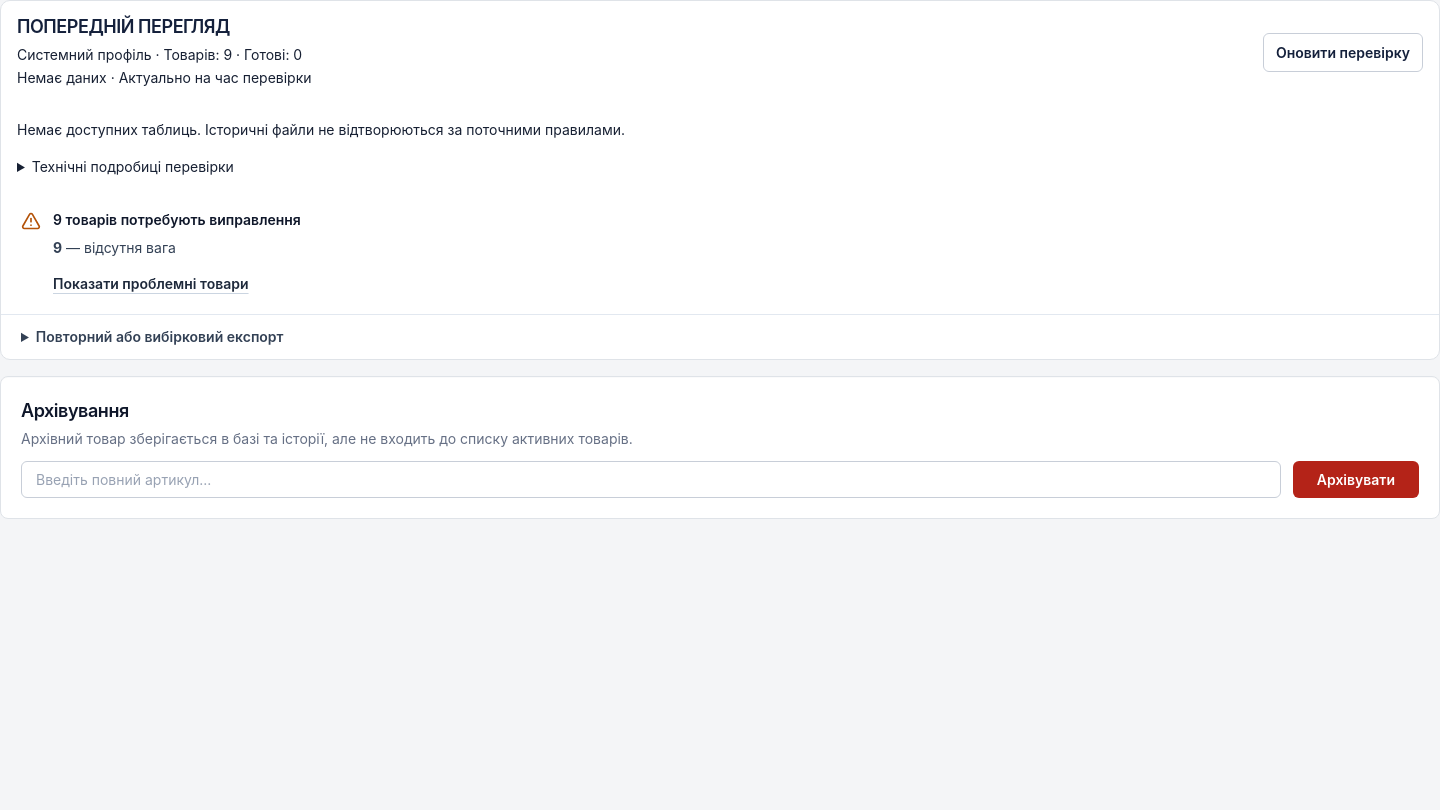
Test: truncates a long problem list and reveals all rows only after request
The width and height of the screenshot is (1440, 810).
Click the button "Показати проблемні товари" at (151, 284), box [53, 274, 248, 294]
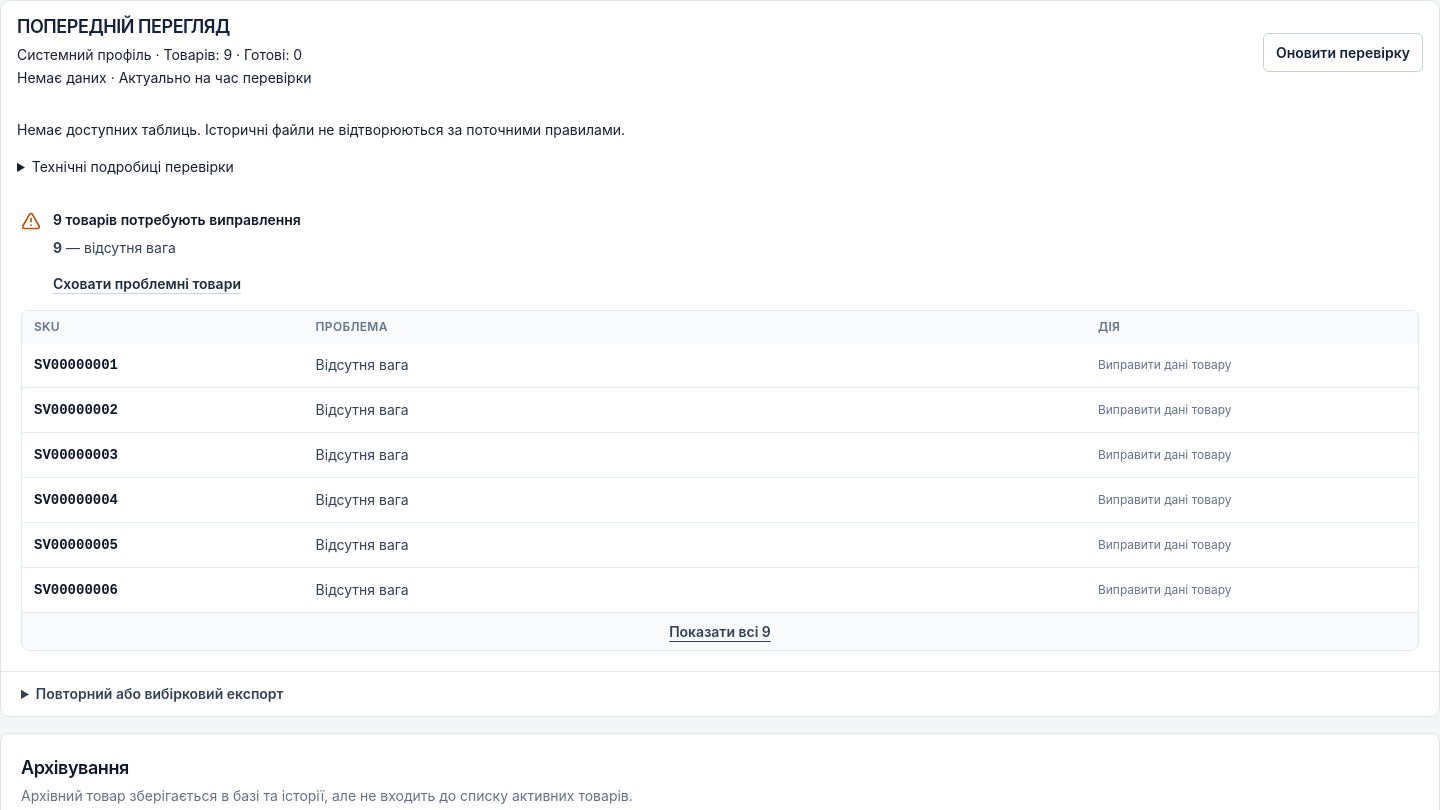
Expected: the text "SV00000007" is not shown
Expected: the text "SV00000006" is shown, [34, 582, 118, 598]
Click the button "Показати всі 9" at (720, 632), box [669, 622, 771, 642]
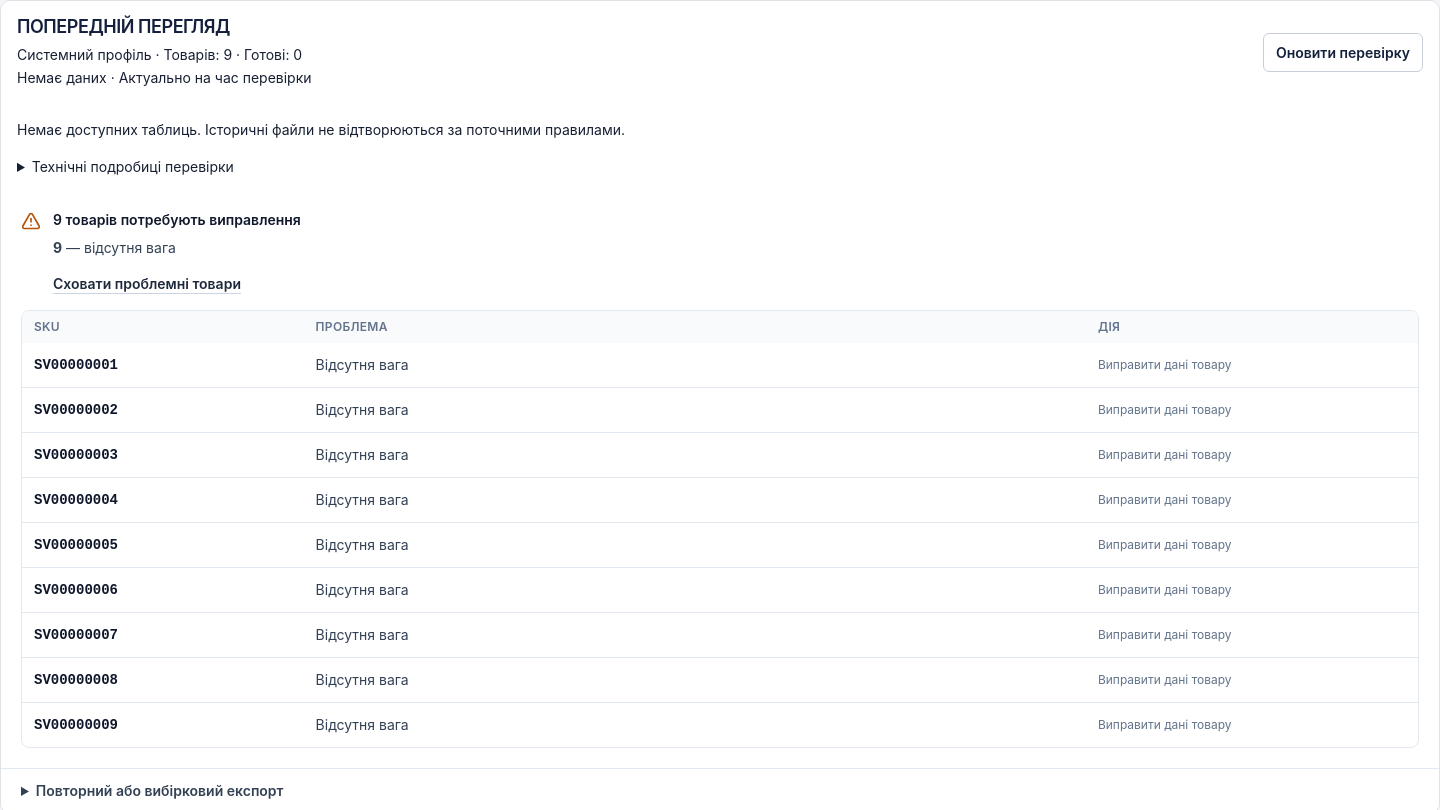
Expected: the text "SV00000009" is shown, [34, 717, 118, 733]
Expected: the button "Показати всі 9" is gone
